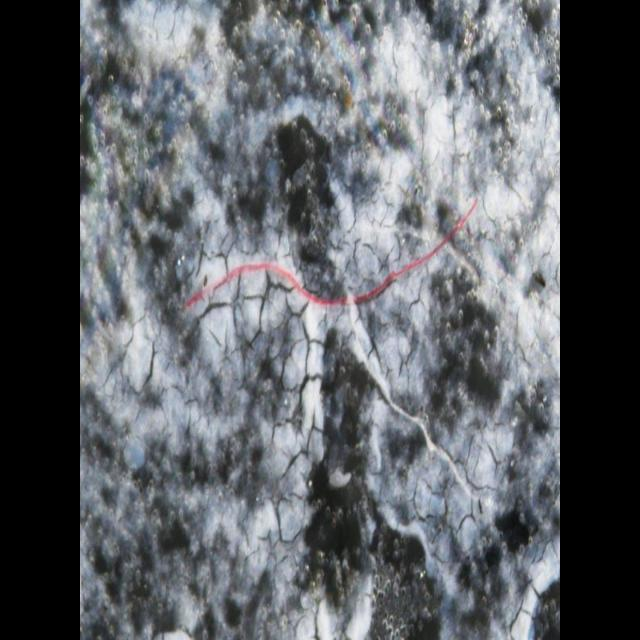Fibre: (178, 191, 488, 323)
